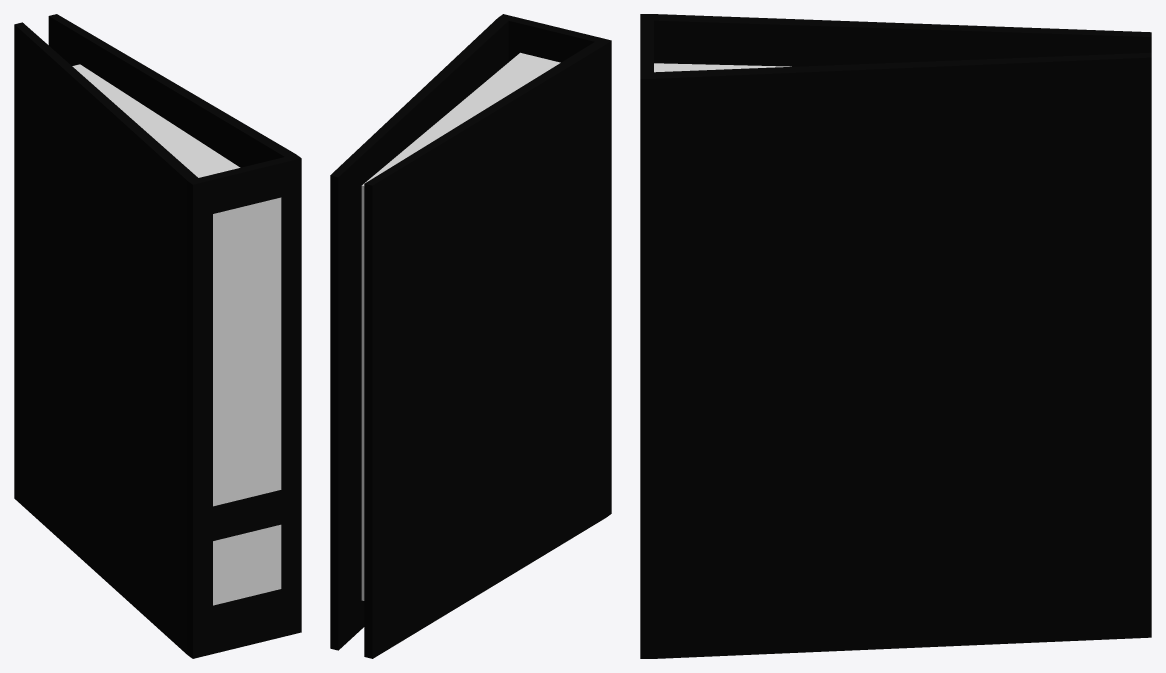
Rendered from H_Dossier.fbx.
The picture shows the model from 3 angles, left to right: view 1: azimuth 30°, elevation 25°; view 2: azimuth 150°, elevation 25°; view 3: azimuth 270°, elevation 25°; orthographic projection. The views are drawn at different scales.
Parts seen in each view (by area): view 1: H_Dossier; view 2: H_Dossier; view 3: H_Dossier.
Part boxes in pixels (x1,y1,x2,y2): H_Dossier: [14, 14, 301, 658]; H_Dossier: [330, 14, 611, 658]; H_Dossier: [640, 14, 1151, 658].
Size of the model in its own units: 42.39 by 141 by 177.
